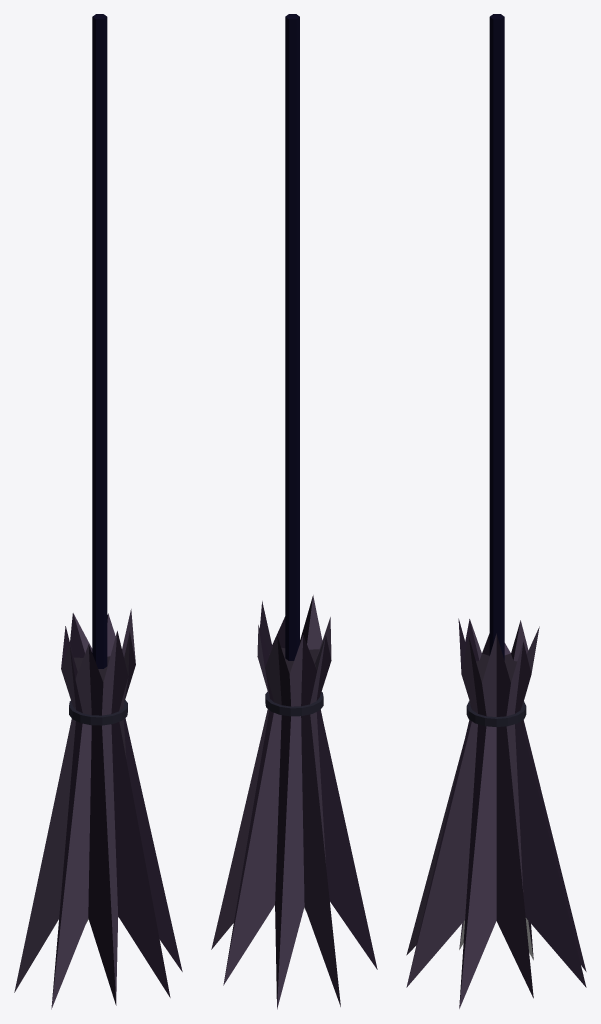
The model's file is Broom.fbx.
3 views of the same model, side by side, from view 1: azimuth 30°, elevation 25°; view 2: azimuth 150°, elevation 25°; view 3: azimuth 270°, elevation 25° (orthographic).
Visible parts, largest first — view 1: Broom; view 2: Broom; view 3: Broom.
Boxes of the visible parts, x1,y1,x2,y2 form: Broom: (14, 14, 182, 1009); Broom: (211, 14, 377, 1009); Broom: (406, 14, 586, 1008).
Size of the model in its own units: 26.8 by 190 by 31.72.
